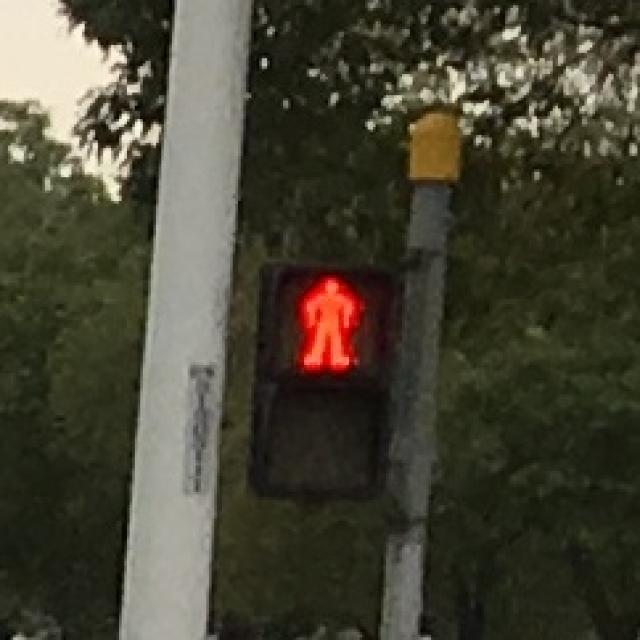red_light: (275, 265, 381, 378)
